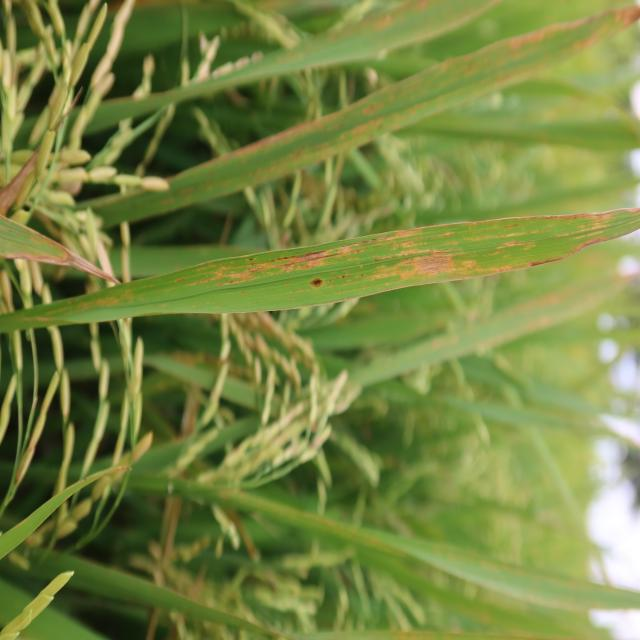Dom soc vi khuan: (178, 236, 378, 287), (365, 227, 513, 283), (572, 214, 613, 242), (485, 238, 538, 258), (452, 235, 498, 246), (502, 229, 552, 238)
